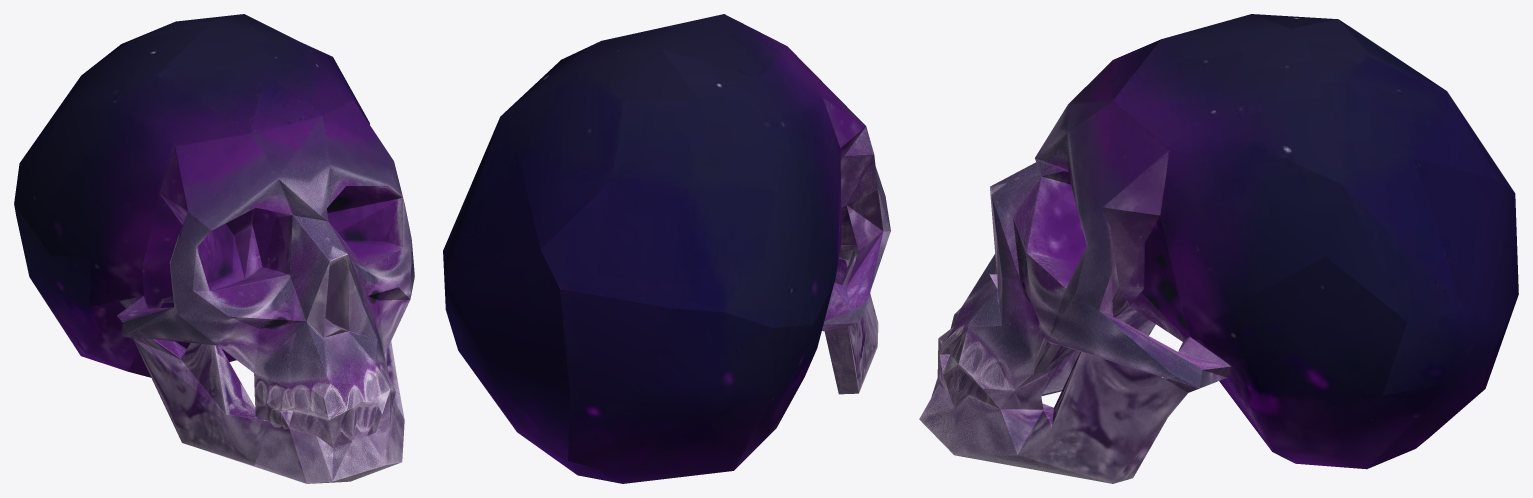
Rendered from gem_skull.glb.
3 renders of one model, left to right at view 1: azimuth 30°, elevation 25°; view 2: azimuth 150°, elevation 25°; view 3: azimuth 270°, elevation 25°, orthographic. The views are drawn at different scales.
Bounding box in the file's own units: 1.25 × 1.39 × 1.89.
Materials: 1 (1 with a texture image).
